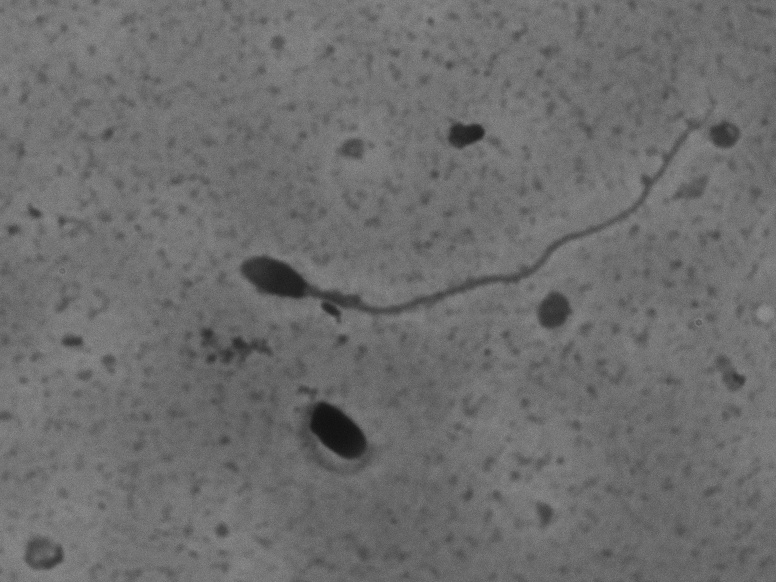Abnormal: (231, 91, 728, 329), (278, 369, 410, 489)
